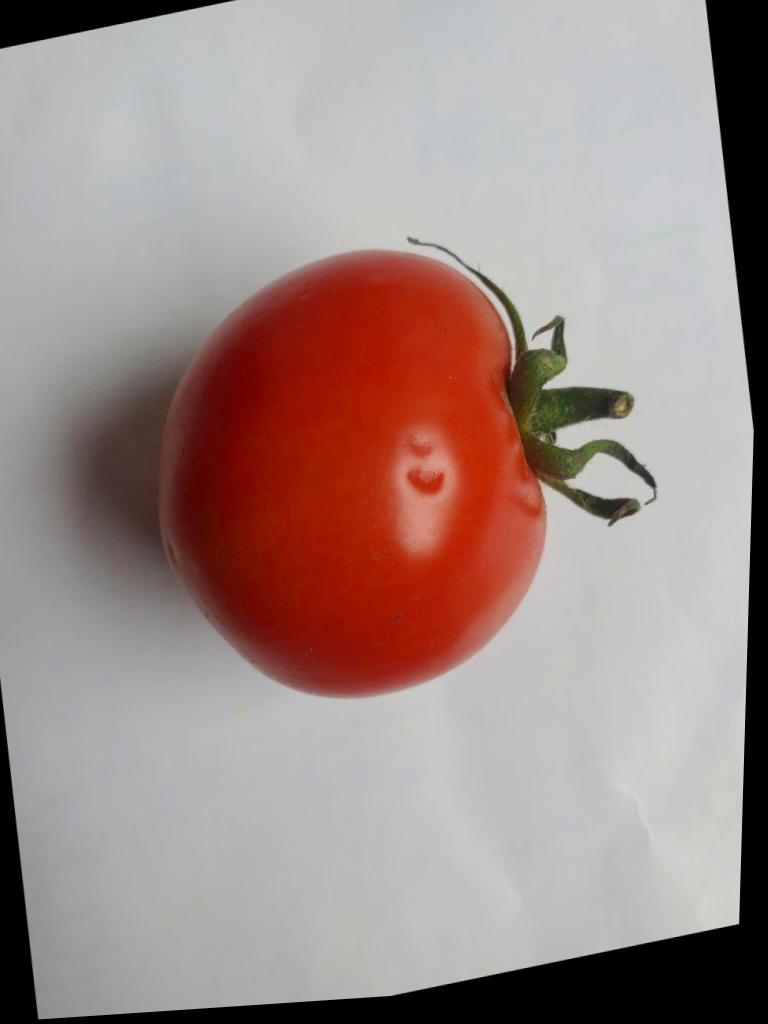tomato: (158, 250, 654, 696)
